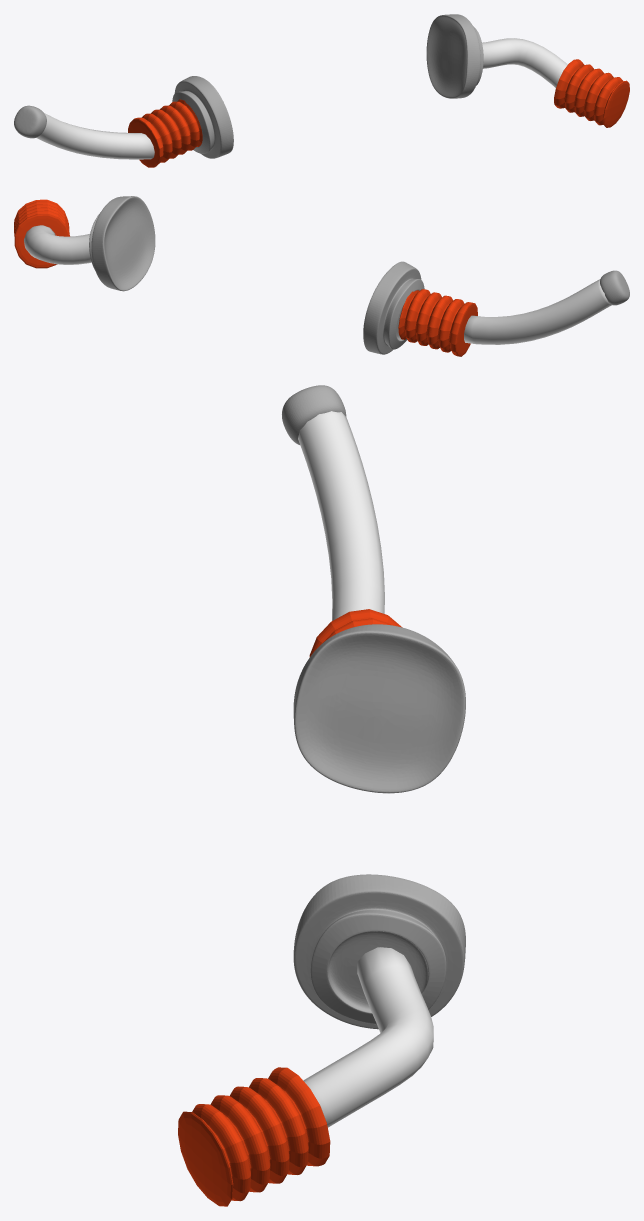
The model's file is arm.glb.
The picture shows the model from 3 angles, top to bottom: view 1: azimuth 30°, elevation 25°; view 2: azimuth 150°, elevation 25°; view 3: azimuth 270°, elevation 25°; orthographic projection. The views are drawn at different scales.
Visible parts, largest first — view 1: ARM; view 2: ARM; view 3: ARM.
Boxes of the visible parts, x1,y1,x2,y2 form: ARM: [14, 14, 629, 167]; ARM: [14, 196, 629, 356]; ARM: [178, 385, 465, 1206].
Bounding box in the file's own units: 7.21 × 1.59 × 1.52.
